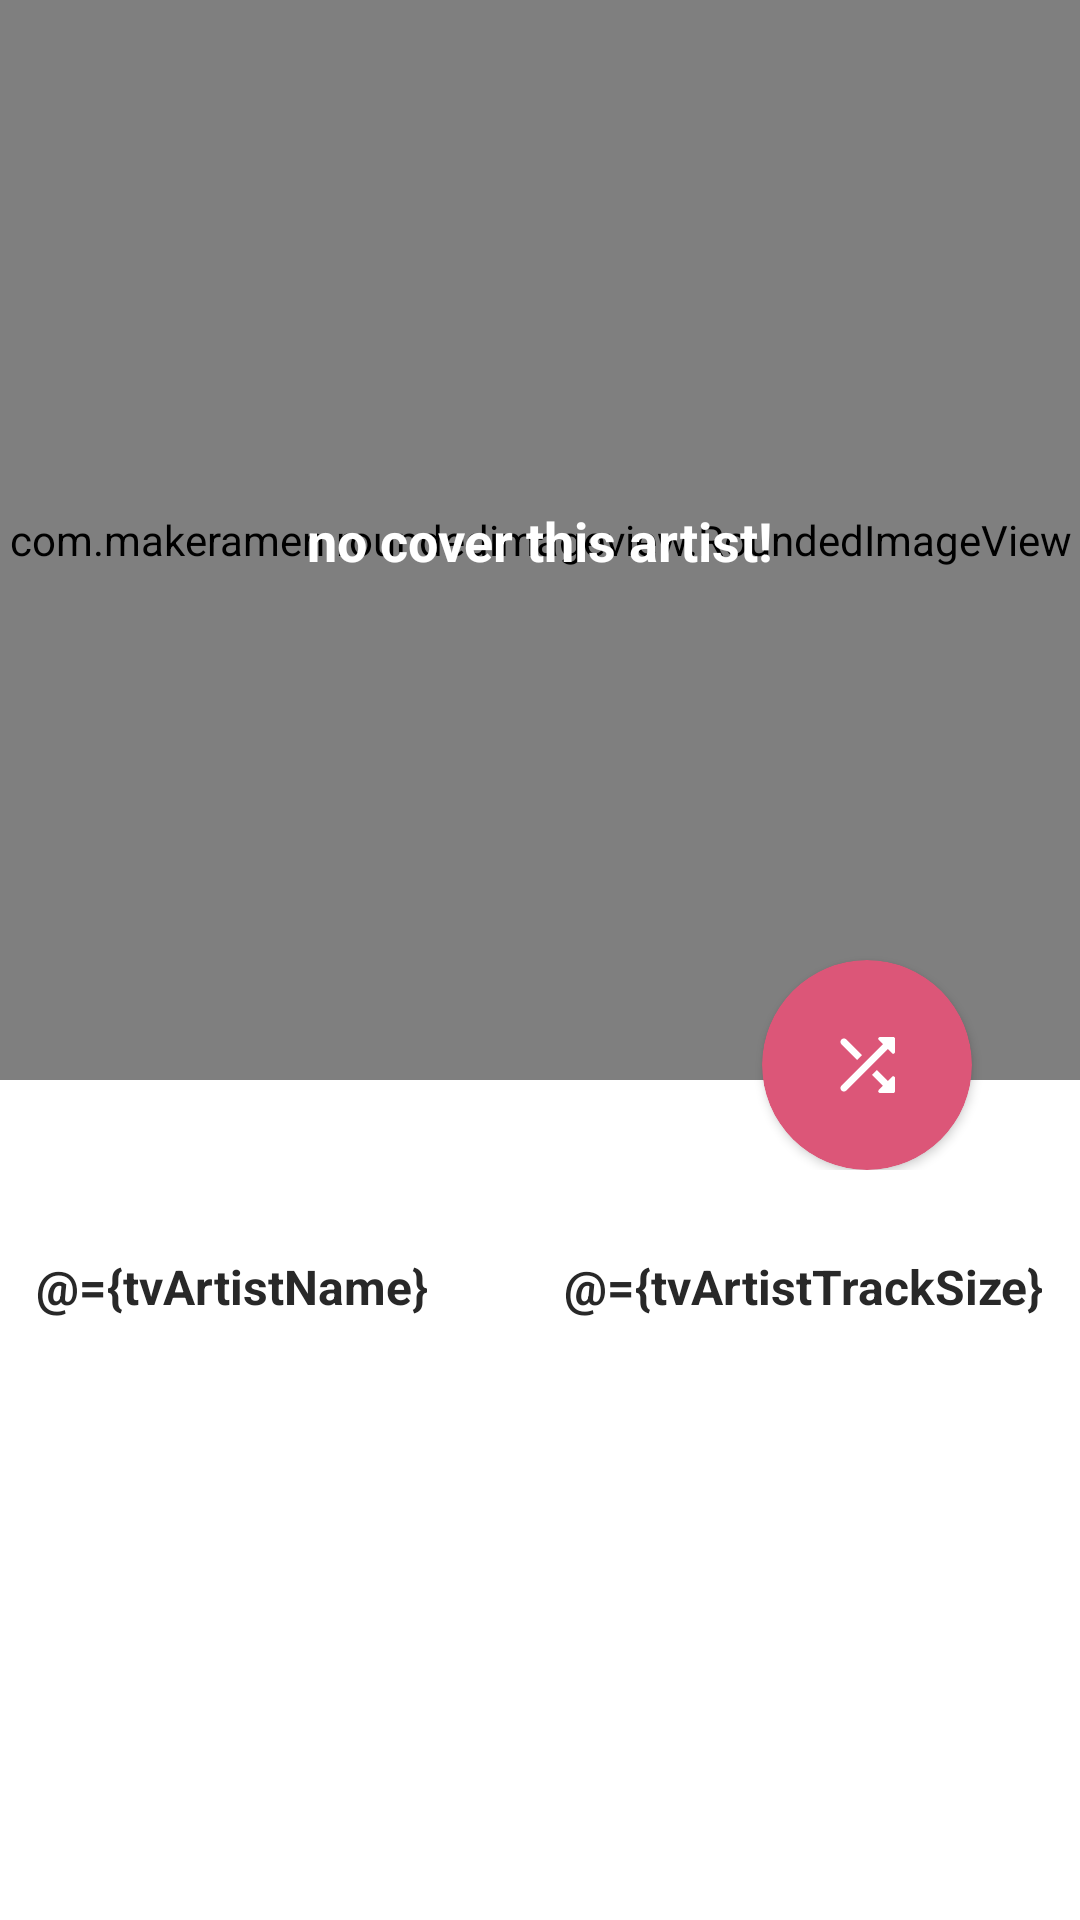

Locate icon controls on the screen. Image size 1080px x 1920px, boxes as Rect(x1, y1, x2, y2).
shuffle: Rect(840, 1037, 895, 1093)
